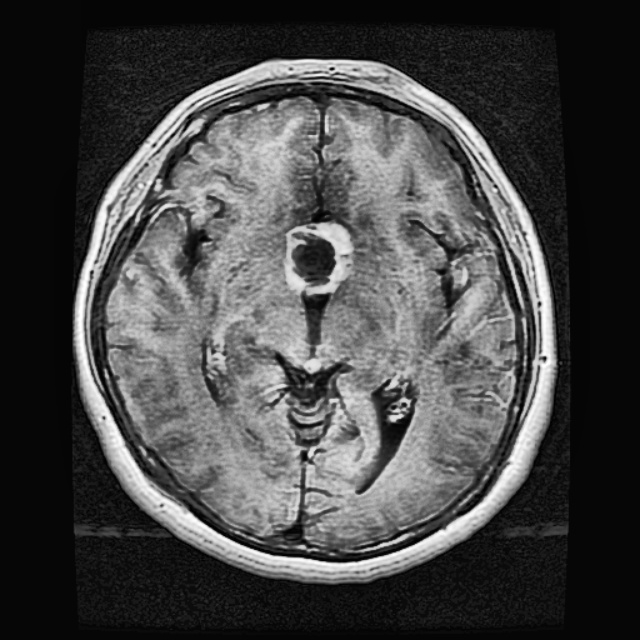Pituitary: (284, 222, 353, 293)
